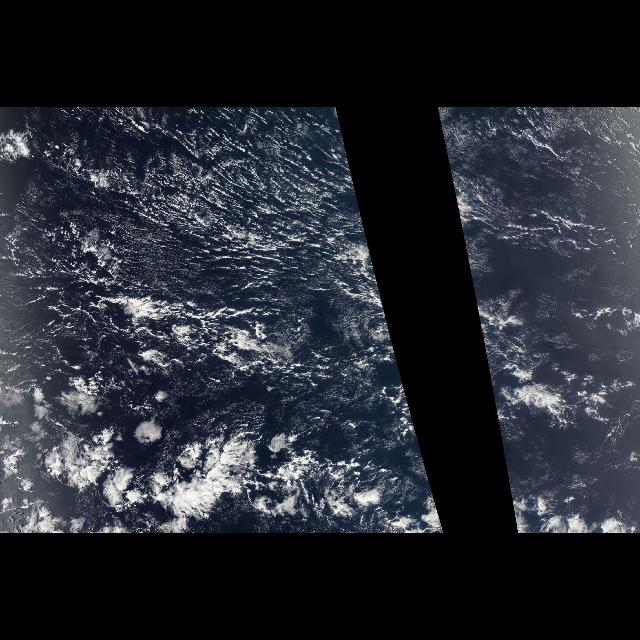Fish: (28, 394, 390, 520)
Flower: (26, 390, 250, 532)
Gravel: (28, 108, 342, 334)
Sugar: (0, 109, 378, 307), (448, 110, 638, 274)
